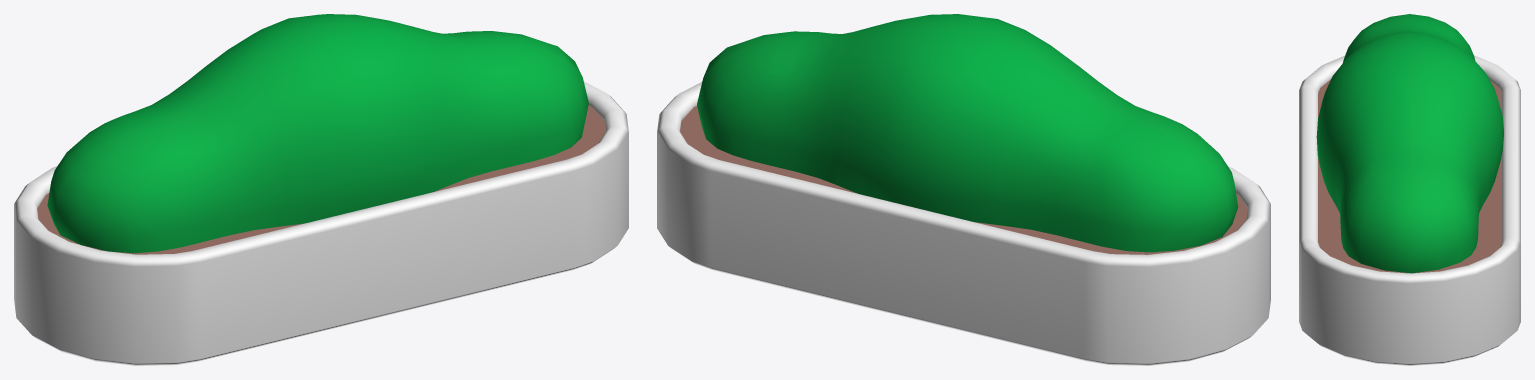
Rendered from City_3_Plant_1.glb.
3 renders of one model, left to right at view 1: azimuth 30°, elevation 25°; view 2: azimuth 150°, elevation 25°; view 3: azimuth 270°, elevation 25°, orthographic. The views are drawn at different scales.
Visible parts, largest first — view 1: City_3_Plant_1; view 2: City_3_Plant_1; view 3: City_3_Plant_1.
Part boxes in pixels (left/top/right/bottom): City_3_Plant_1: left=14, top=14, right=628, bottom=365; City_3_Plant_1: left=657, top=14, right=1270, bottom=365; City_3_Plant_1: left=1299, top=14, right=1520, bottom=365.
Bounding box in the file's own units: 2.83 × 1.13 × 1.13.
1 material, 1 textured.
